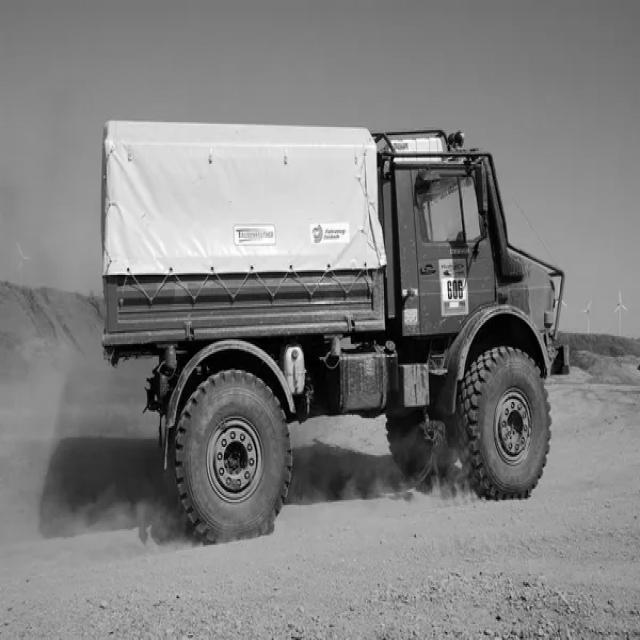Truck: (101, 121, 571, 542)
